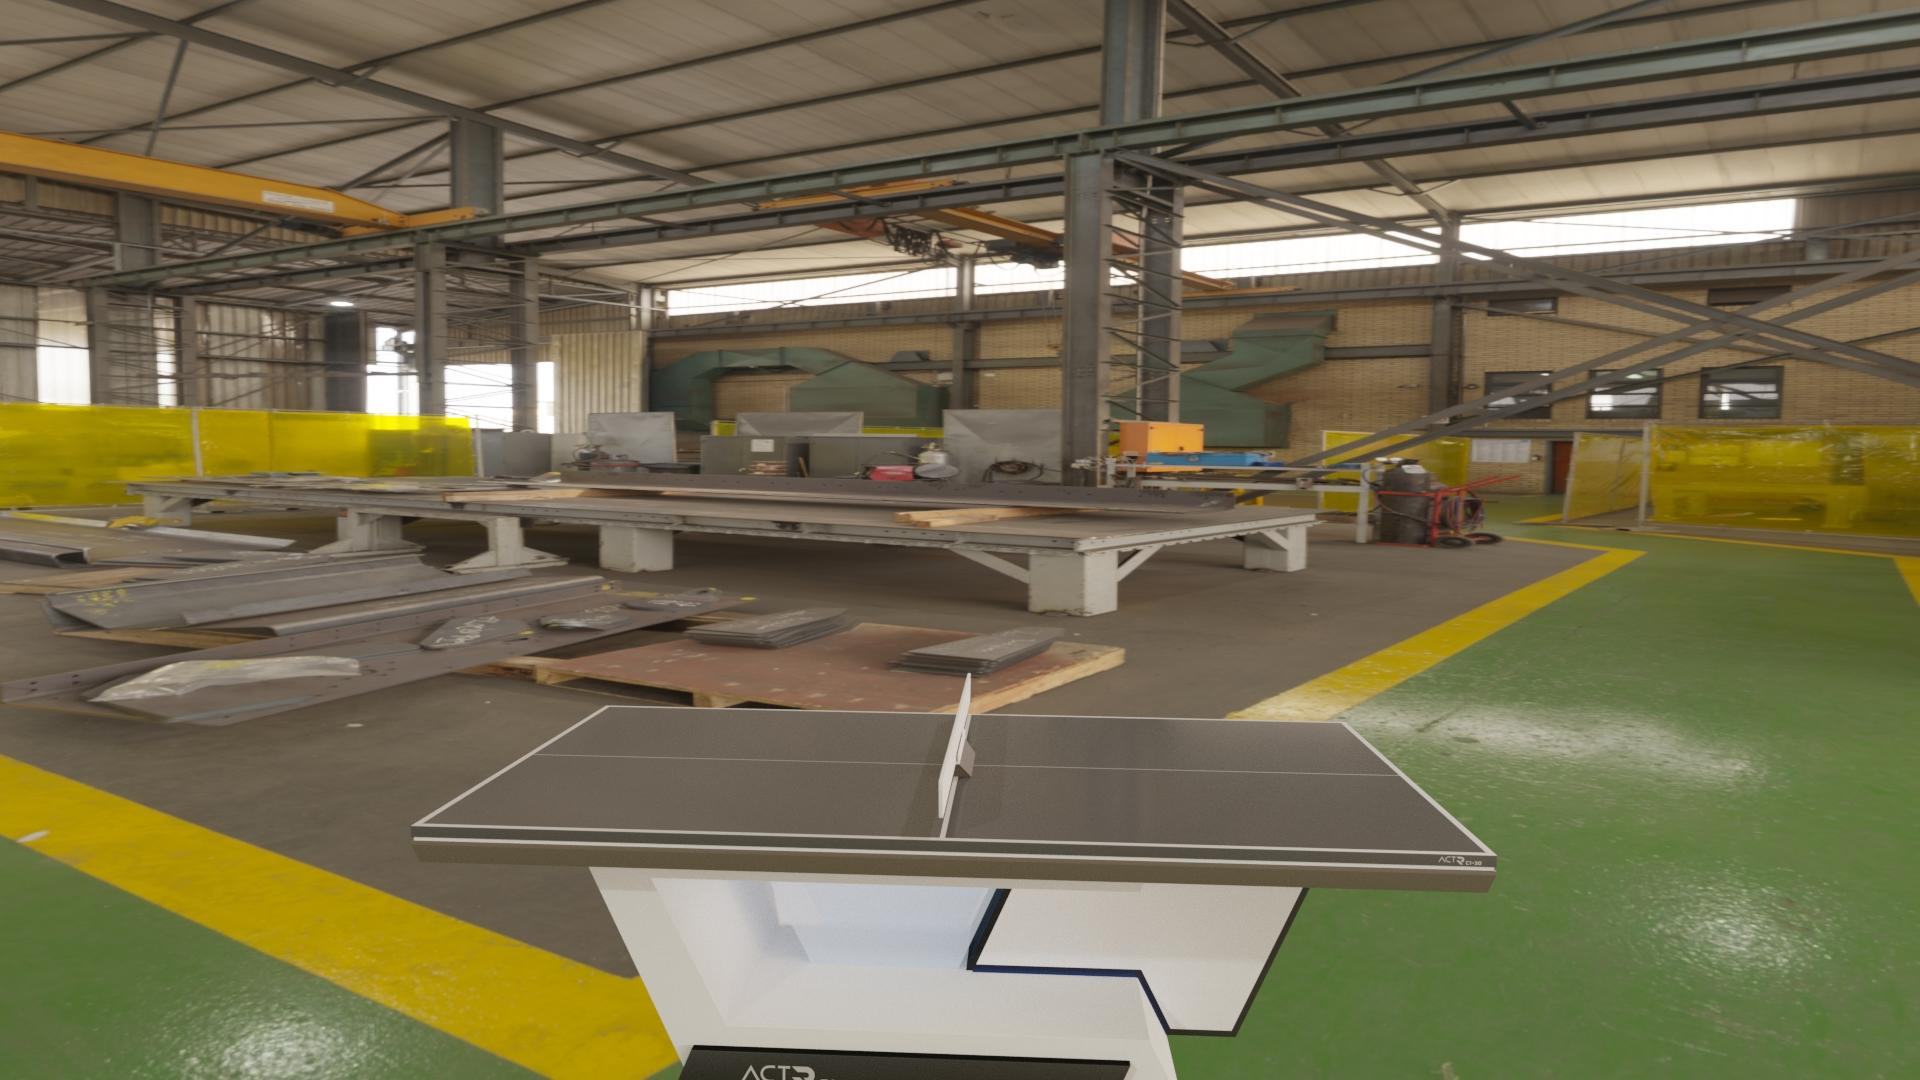table: (422, 707, 1486, 853)
